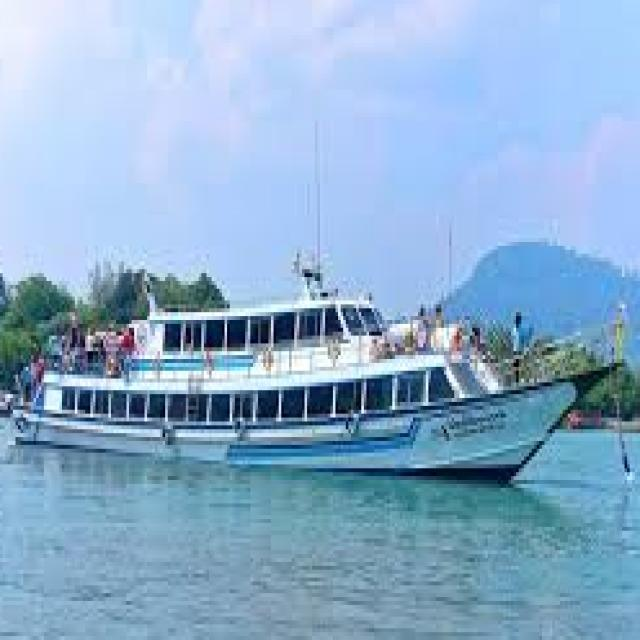passenger ship: (15, 215, 620, 476)
